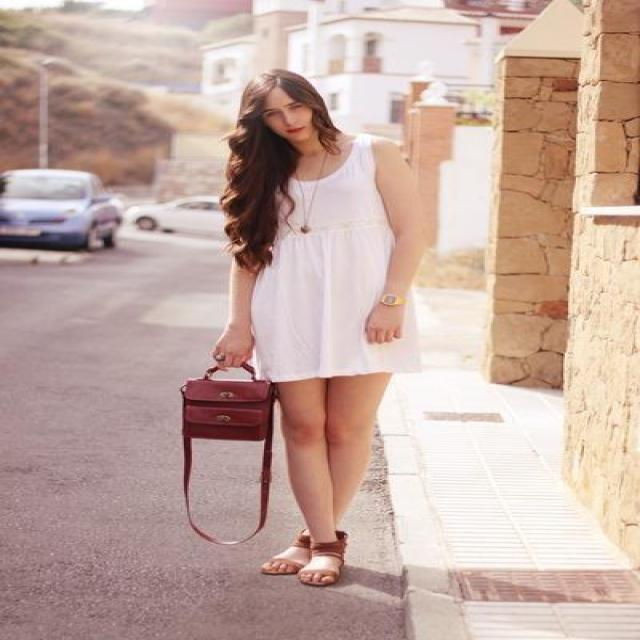bag: (181, 363, 286, 498)
dress: (250, 126, 426, 382)
shoe: (298, 531, 346, 562)
